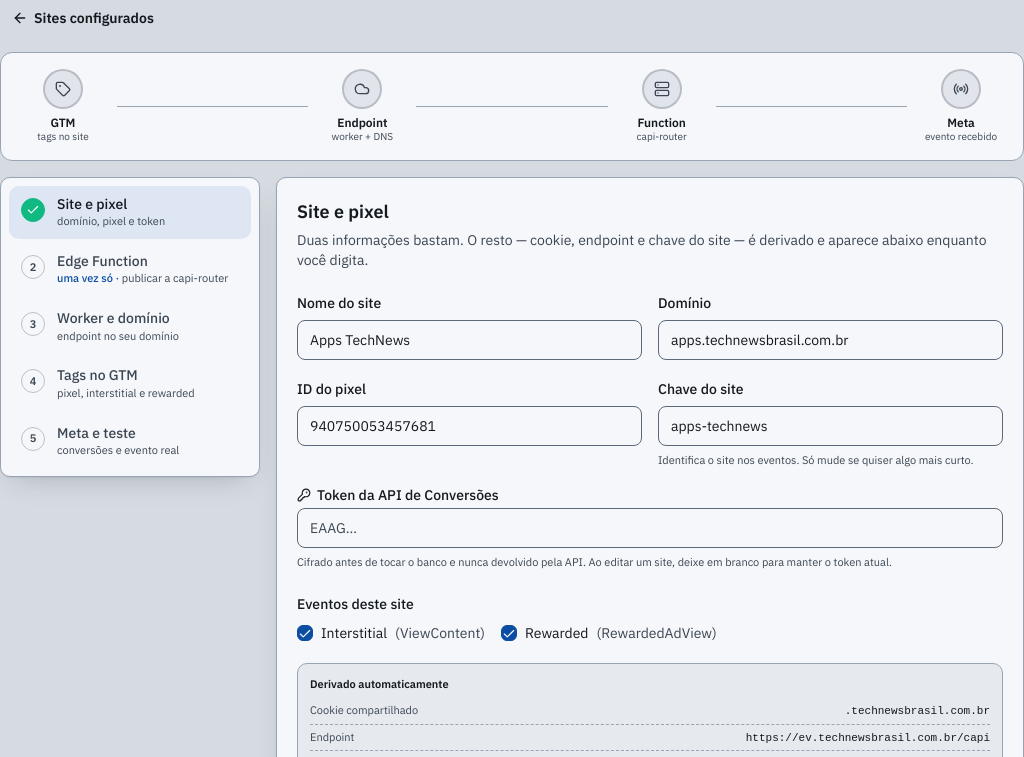
Test: MetaCapiWizard › testa CADA evento ligado, não só o primeiro
Click the button "5 Meta e teste conversões e evento real": x=130, y=441 [9, 414, 251, 468]
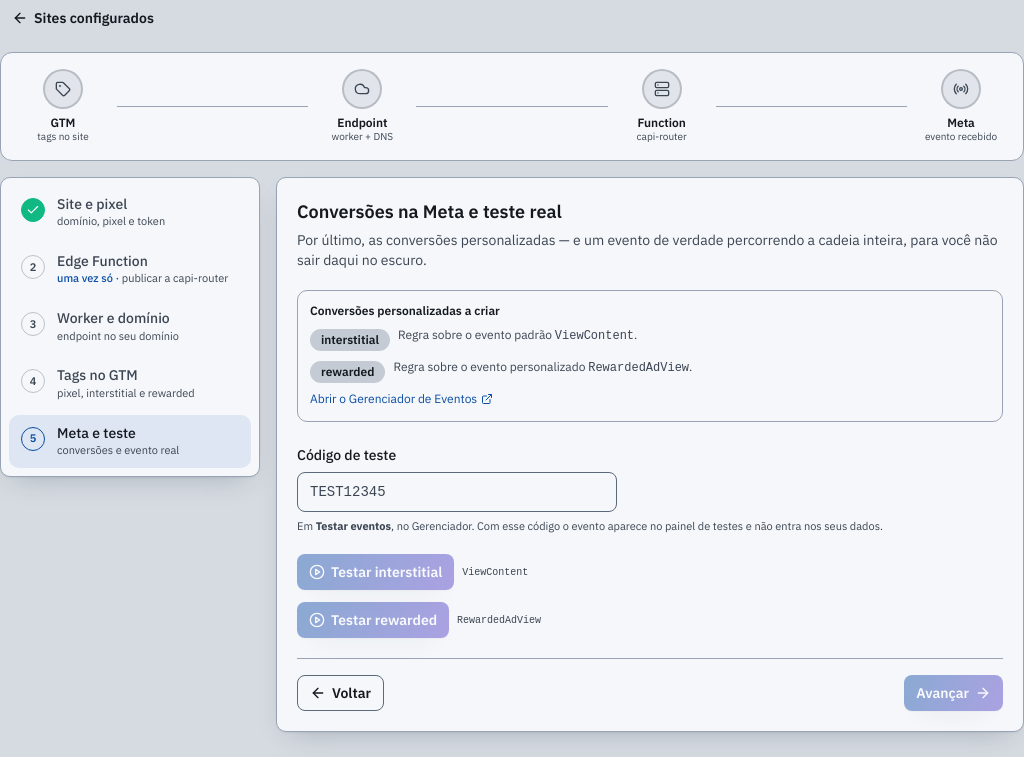
Check: the button "Testar interstitial" is shown, box [297, 554, 454, 590]
Check: the button "Testar rewarded" is shown, box [297, 602, 449, 638]
